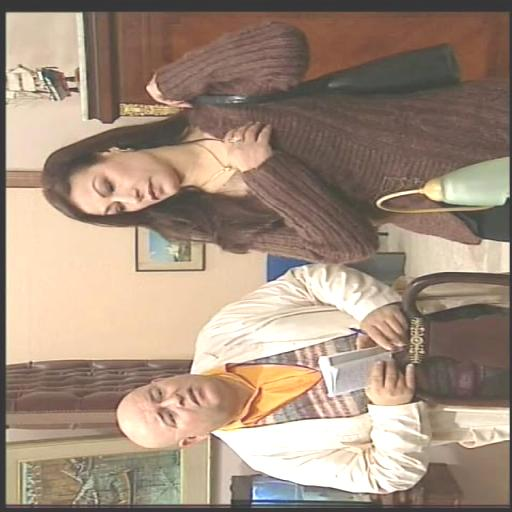sboui: (115, 374, 240, 447)
zeineb: (42, 119, 186, 225)
